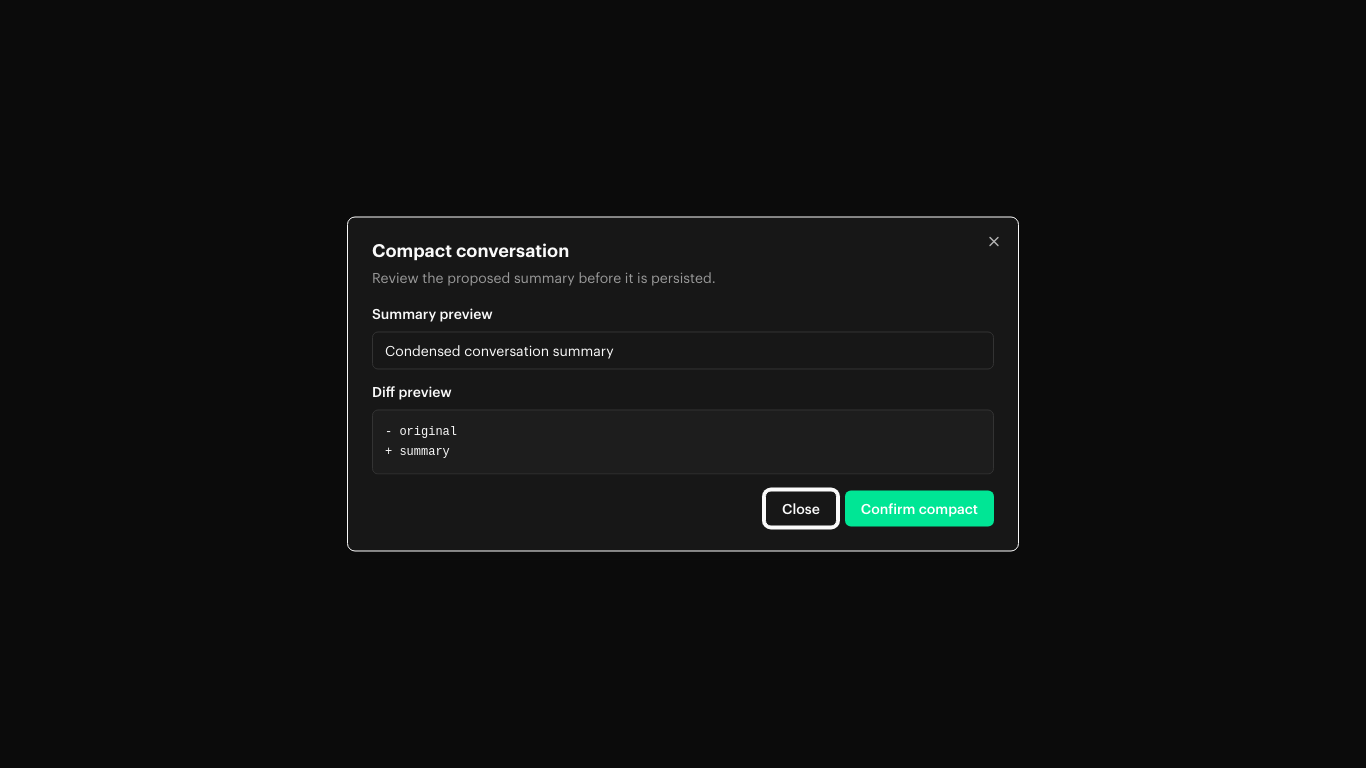
Test: v2 CompactModal › runs preview then confirm against compact endpoints
The width and height of the screenshot is (1366, 768).
expect the text "Condensed conversation summary" is shown: met, box [372,332,994,370]
expect the text "- original + summary" is shown: met, box [372,410,994,474]
Click the button "Confirm compact" at (919, 508), box [845,490,994,526]
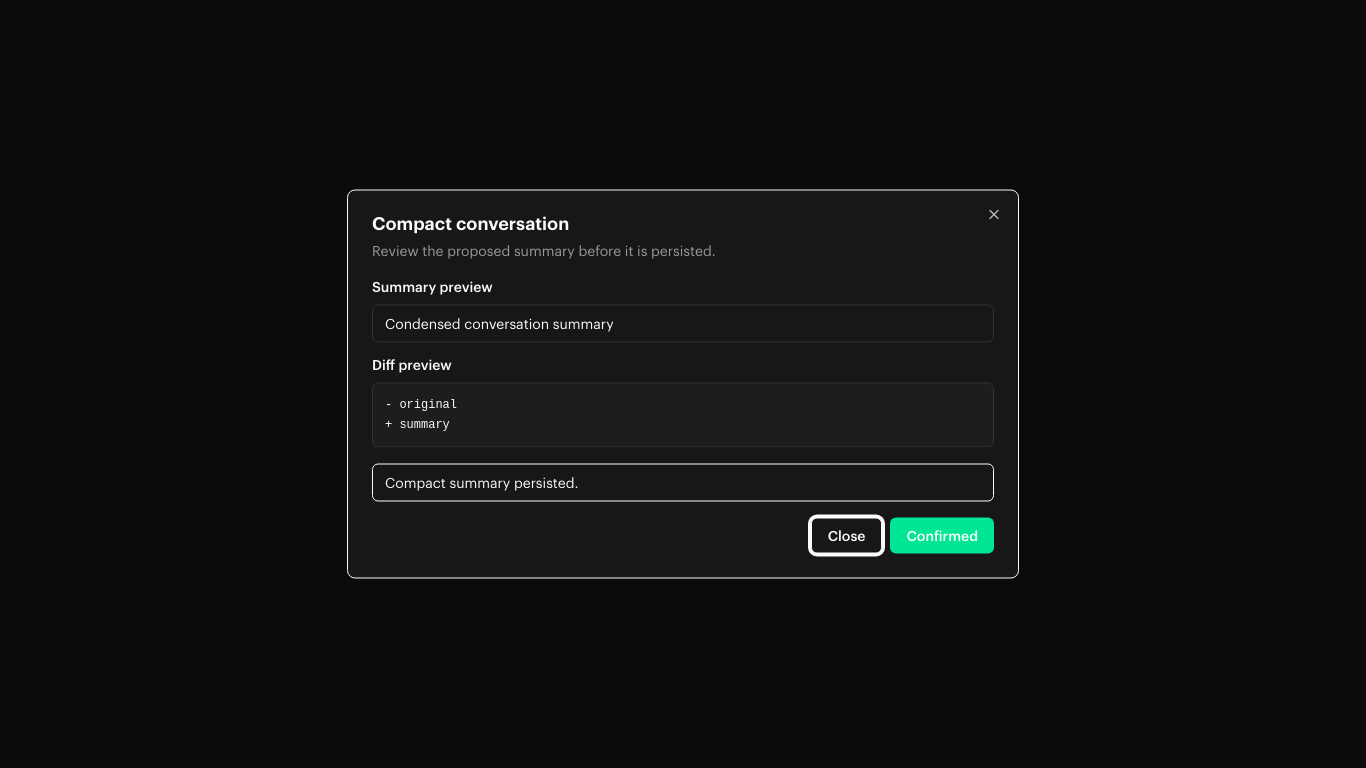
expect the text "Compact summary persisted." is shown: met, box [372,464,994,502]
